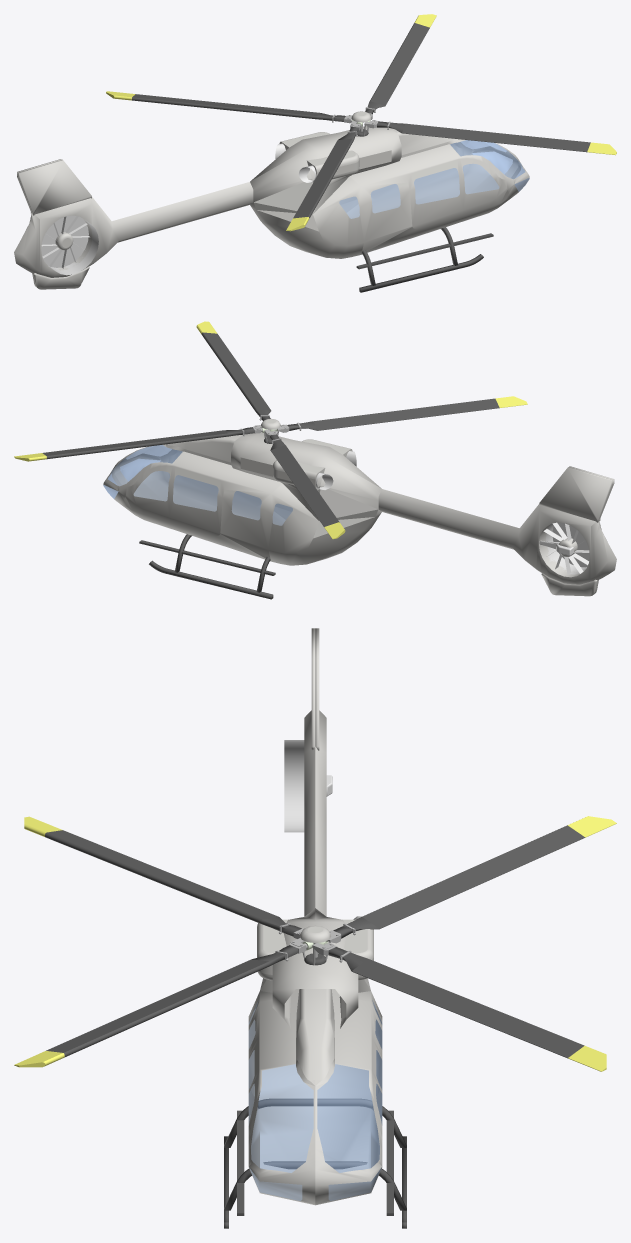
Rendered from AIRBUS Helicopters H145.glb.
The picture shows the model from 3 angles, top to bottom: view 1: azimuth 30°, elevation 25°; view 2: azimuth 150°, elevation 25°; view 3: azimuth 270°, elevation 25°; orthographic projection. The views are drawn at different scales.
Parts seen in each view (by area): view 1: Geom3D_ (×12), Geom3D (×8); view 2: Geom3D_ (×12), Geom3D (×8); view 3: Geom3D_ (×11), Geom3D (×8).
Boxes of the visible parts, x1,y1,x2,y2 form: Geom3D_ (×12): (14, 23, 590, 292); Geom3D (×8): (250, 126, 525, 214); Geom3D_ (×12): (42, 332, 616, 599); Geom3D (×8): (108, 432, 381, 521); Geom3D_ (×11): (45, 710, 585, 1210); Geom3D (×8): (251, 908, 379, 1172).
Size of the model in its own units: 12.74 by 4.2 by 8.26.
